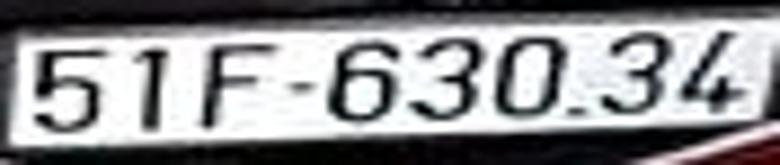-: (289, 78, 316, 93)
.: (568, 106, 587, 117)
0: (494, 36, 564, 118)
1: (132, 47, 170, 130)
3: (411, 39, 479, 121), (606, 33, 670, 113)
4: (681, 29, 749, 115)
5: (30, 49, 101, 131)
6: (326, 40, 395, 123)
F: (203, 42, 276, 131)
